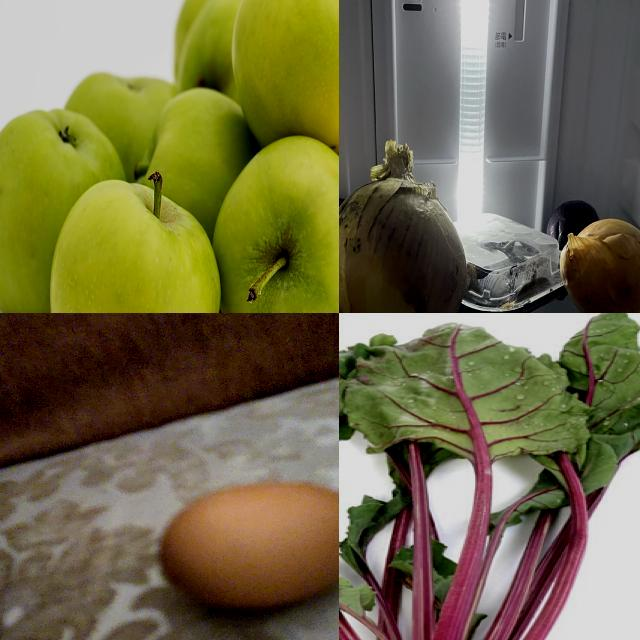egg: (157, 479, 340, 616)
eggplant: (549, 199, 605, 251), (340, 193, 352, 262)
onion: (340, 143, 468, 314), (561, 220, 640, 314)
